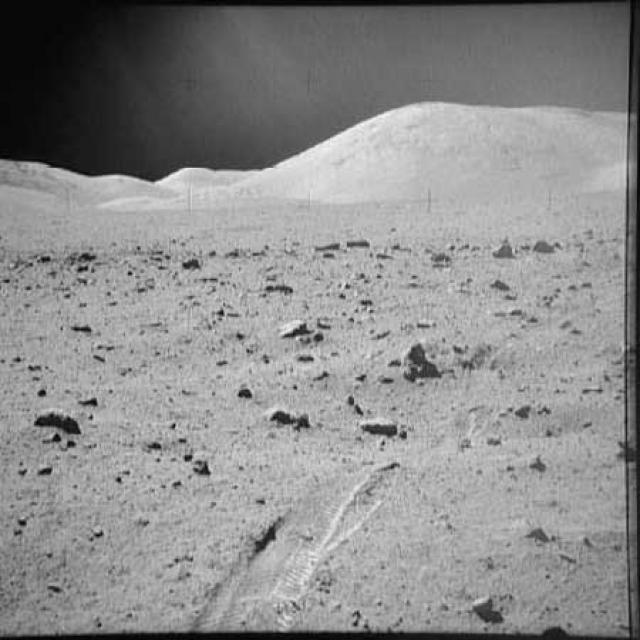crater: (400, 402, 615, 444)
rock: (390, 340, 444, 386), (249, 396, 315, 431), (33, 400, 83, 436), (357, 406, 399, 442), (270, 310, 308, 338), (492, 234, 523, 265), (531, 232, 564, 260), (314, 238, 342, 254), (343, 236, 372, 250), (178, 255, 202, 269)
